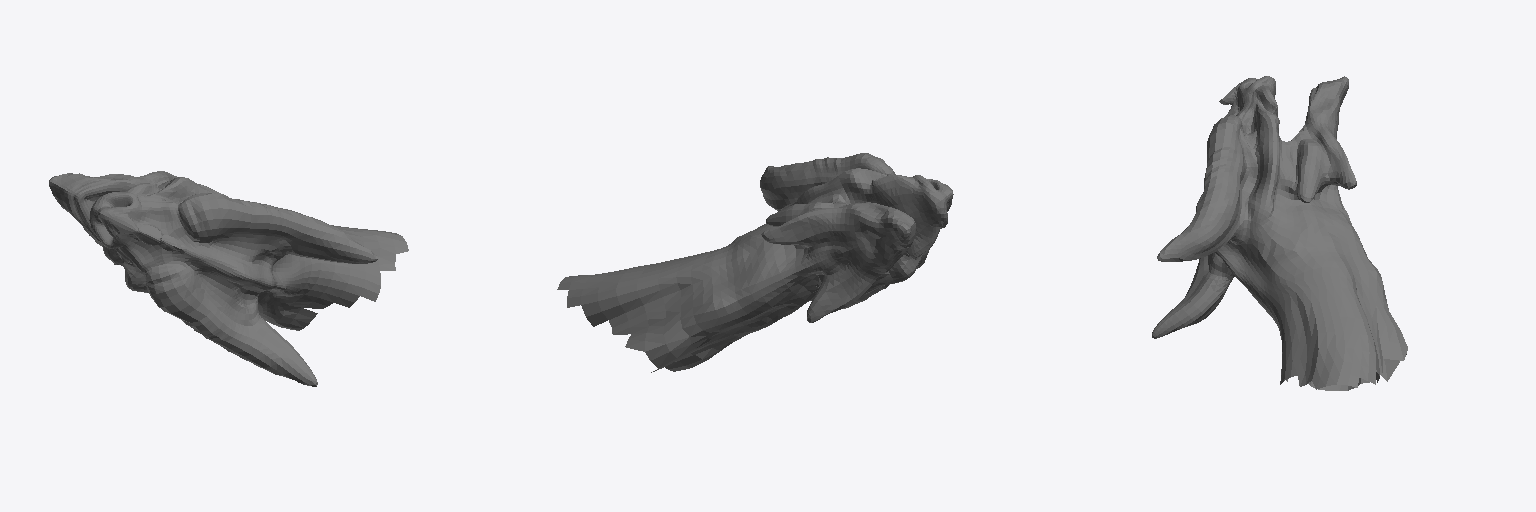
File: Cabeza1.obj
3 renders of one model, left to right at view 1: azimuth 30°, elevation 25°; view 2: azimuth 150°, elevation 25°; view 3: azimuth 270°, elevation 25°, orthographic.
Parts seen in each view (by area): view 1: Cabeza1; view 2: Cabeza1; view 3: Cabeza1.
Boxes of the visible parts, box(x1,y1,x2,y2) form: Cabeza1: box(49, 171, 408, 386); Cabeza1: box(557, 153, 953, 372); Cabeza1: box(1152, 76, 1407, 390).
Bounding box in the file's own units: 2.64 × 1.53 × 1.68.